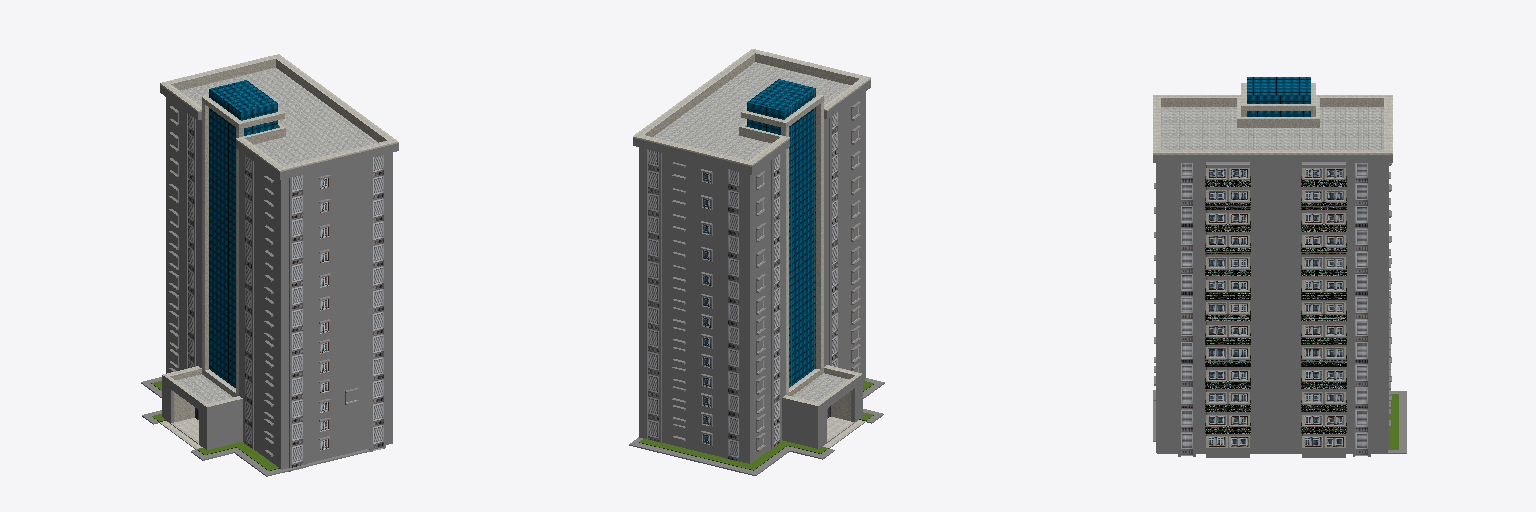
3 views of the same model, side by side, from view 1: azimuth 30°, elevation 25°; view 2: azimuth 150°, elevation 25°; view 3: azimuth 270°, elevation 25° (orthographic).
Visible parts, largest first — view 1: high_building2; view 2: high_building2; view 3: high_building2.
Boxes of the visible parts, <box> form: high_building2: <box>141,54,398,476</box>; high_building2: <box>629,49,884,475</box>; high_building2: <box>1153,77,1406,457</box>.
Size of the model in its own units: 255 by 471 by 333.
15 materials, 10 textured.